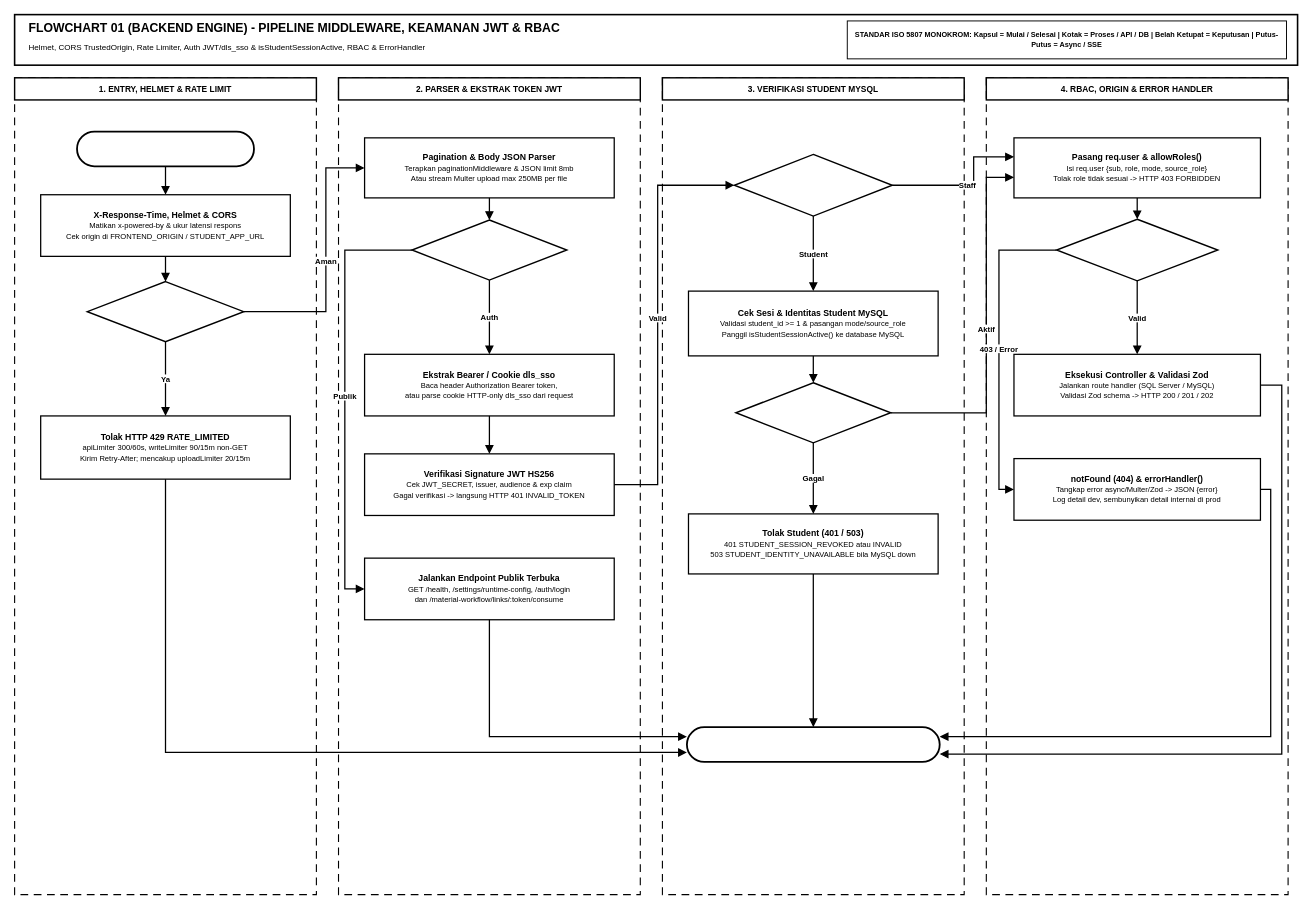
Some shapes in this 1311 by 909 pixel diagram are drawn without their labels. Here are the shapes that lost their labels. From the top down, the centre of each, then its label:
the point at 165,148: HTTP REQUEST MASUK
the point at 813,184: Role Token = Student / Staff?
the point at 489,249: Endpoint Perlu Middleware Auth?
the point at 1137,249: Write Endpoint: Origin Terpercaya?
the point at 165,311: Melebihi Kuota Rate Limiter?
the point at 813,412: Status Student Aktif & DB Up?
the point at 813,744: RESPONSE HTTP DIKIRIM KE KLIEN
